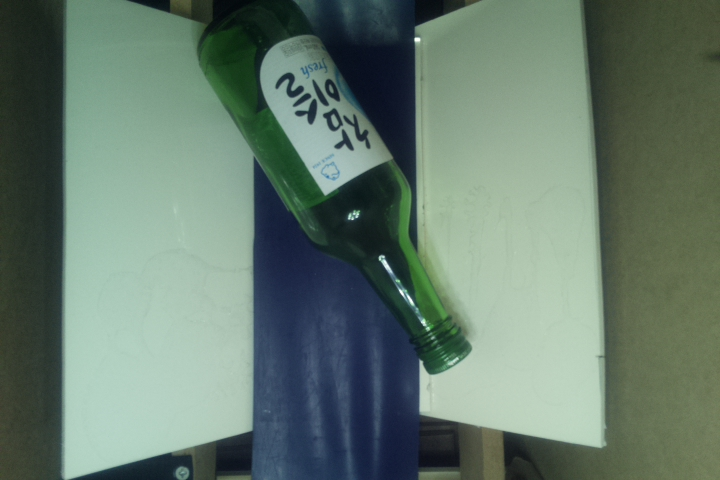soju: (194, 1, 469, 376)
